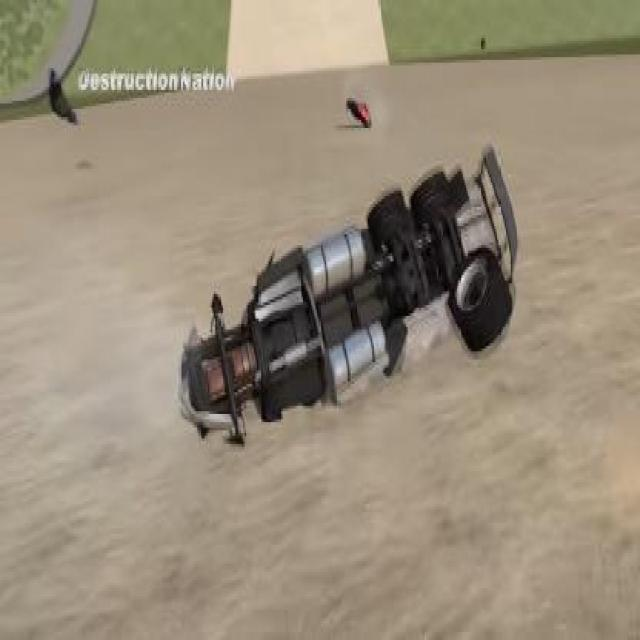accident: (169, 131, 523, 449)
